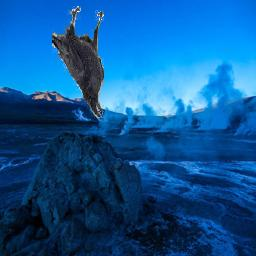Crow: (52, 6, 104, 118)
